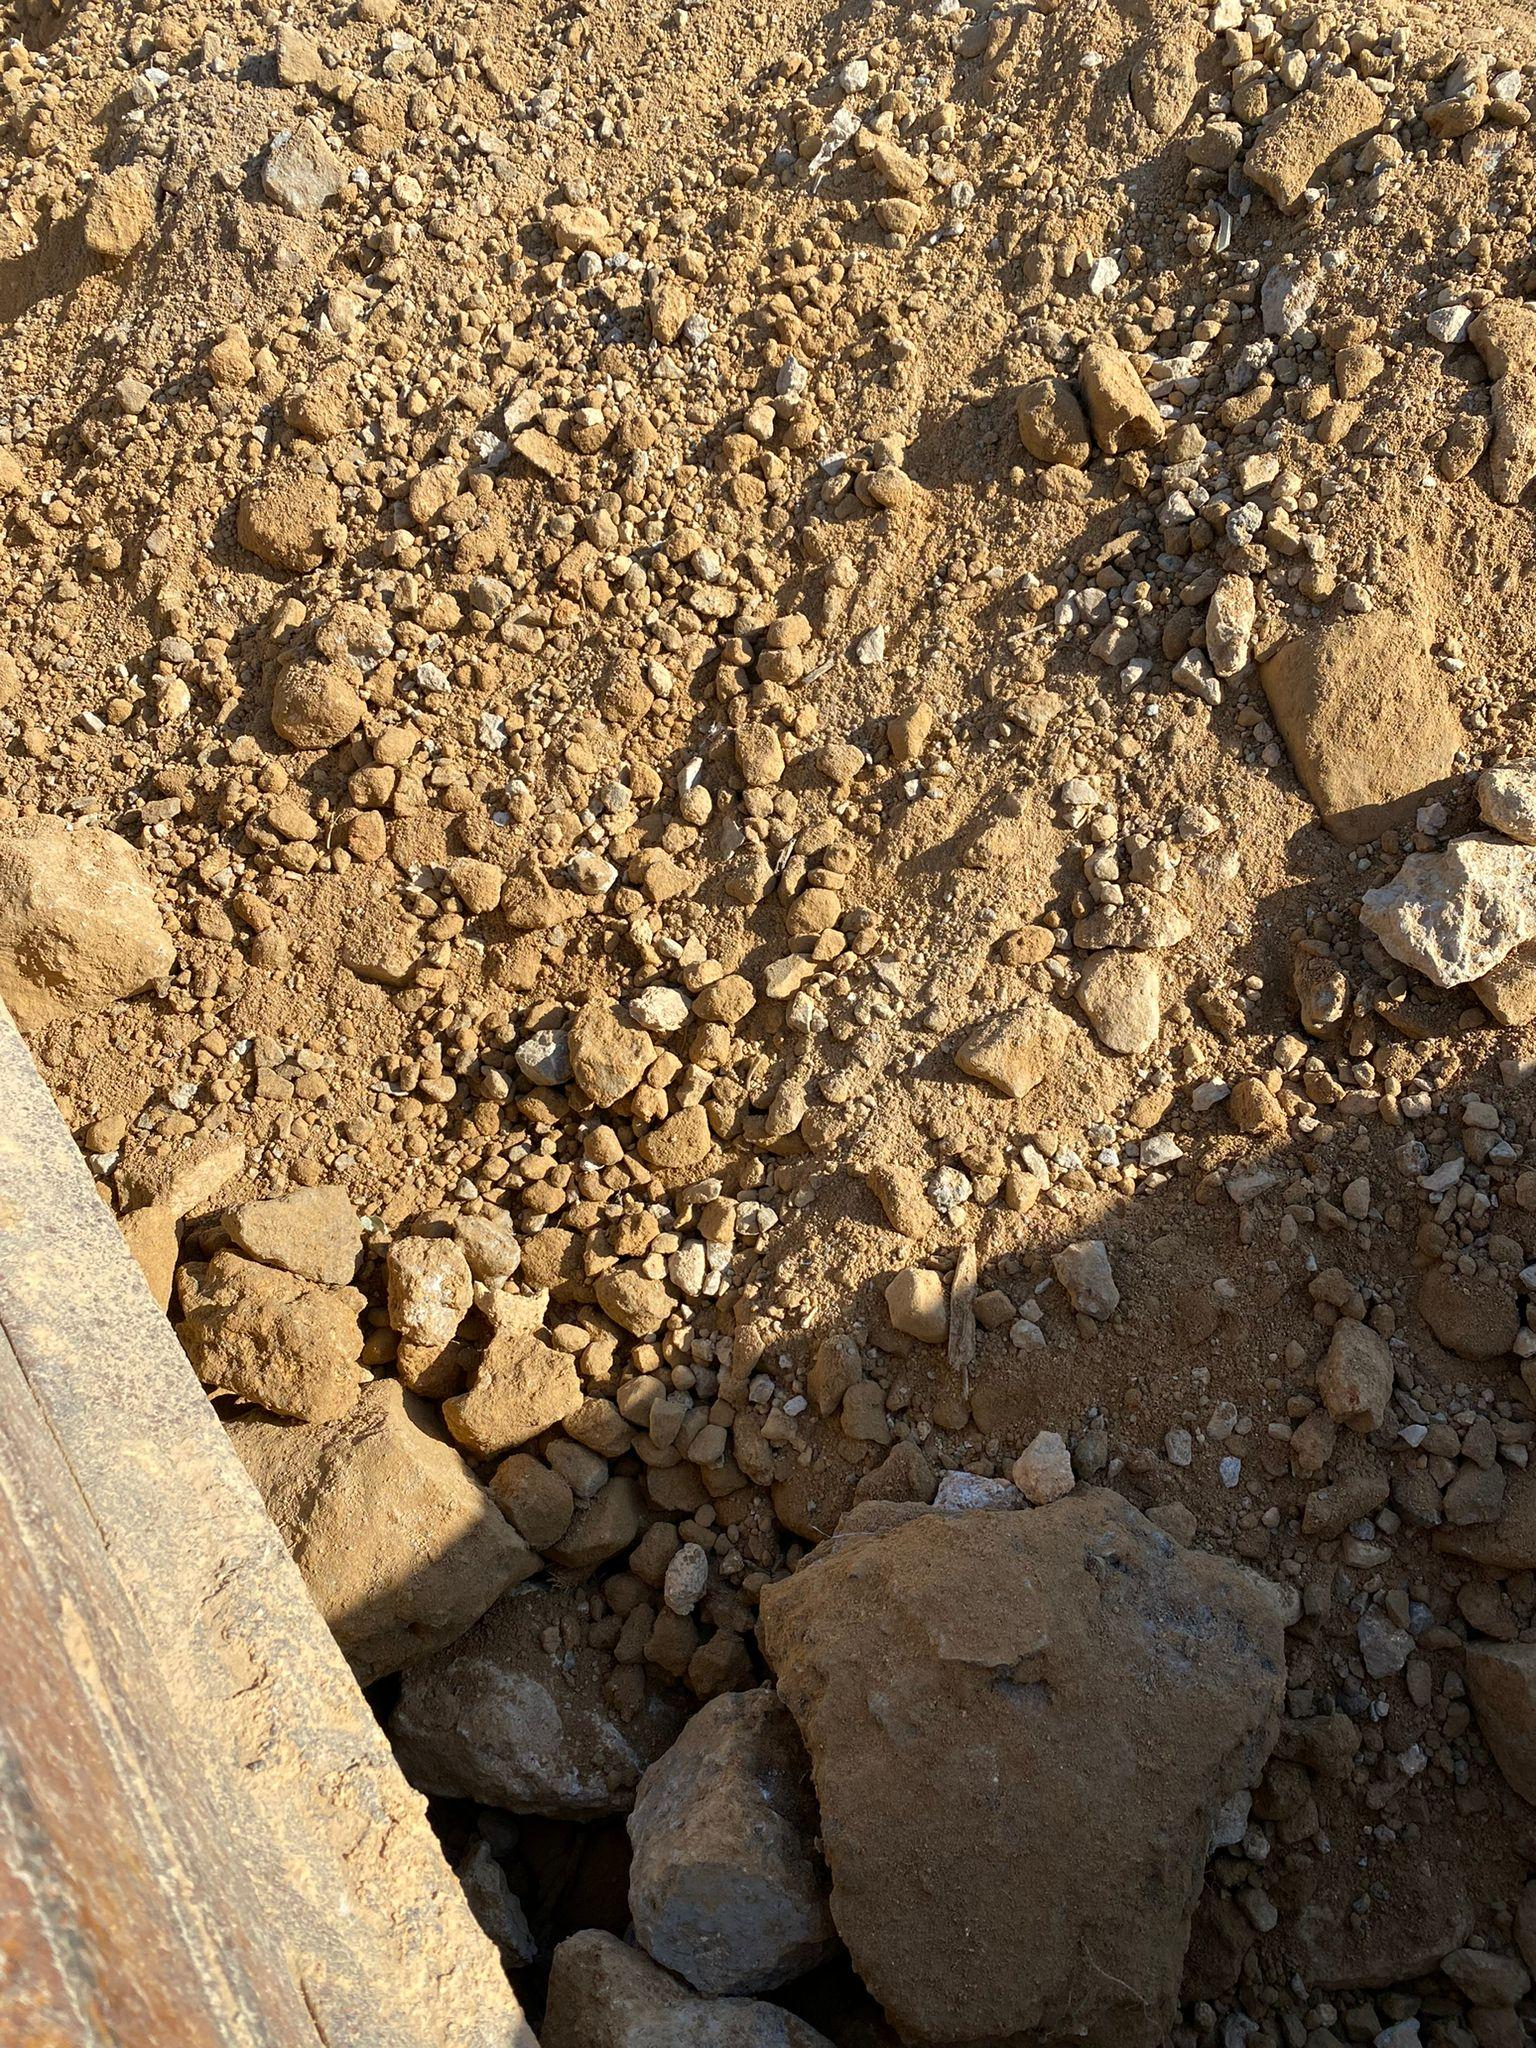dirt: (0, 0, 1536, 2048)
stone: (753, 1480, 1291, 2044), (623, 1685, 832, 1994), (1254, 603, 1469, 844), (0, 810, 177, 1025), (1357, 832, 1533, 988), (1240, 72, 1385, 214), (234, 473, 345, 574), (1077, 339, 1164, 454), (1015, 375, 1091, 466)
